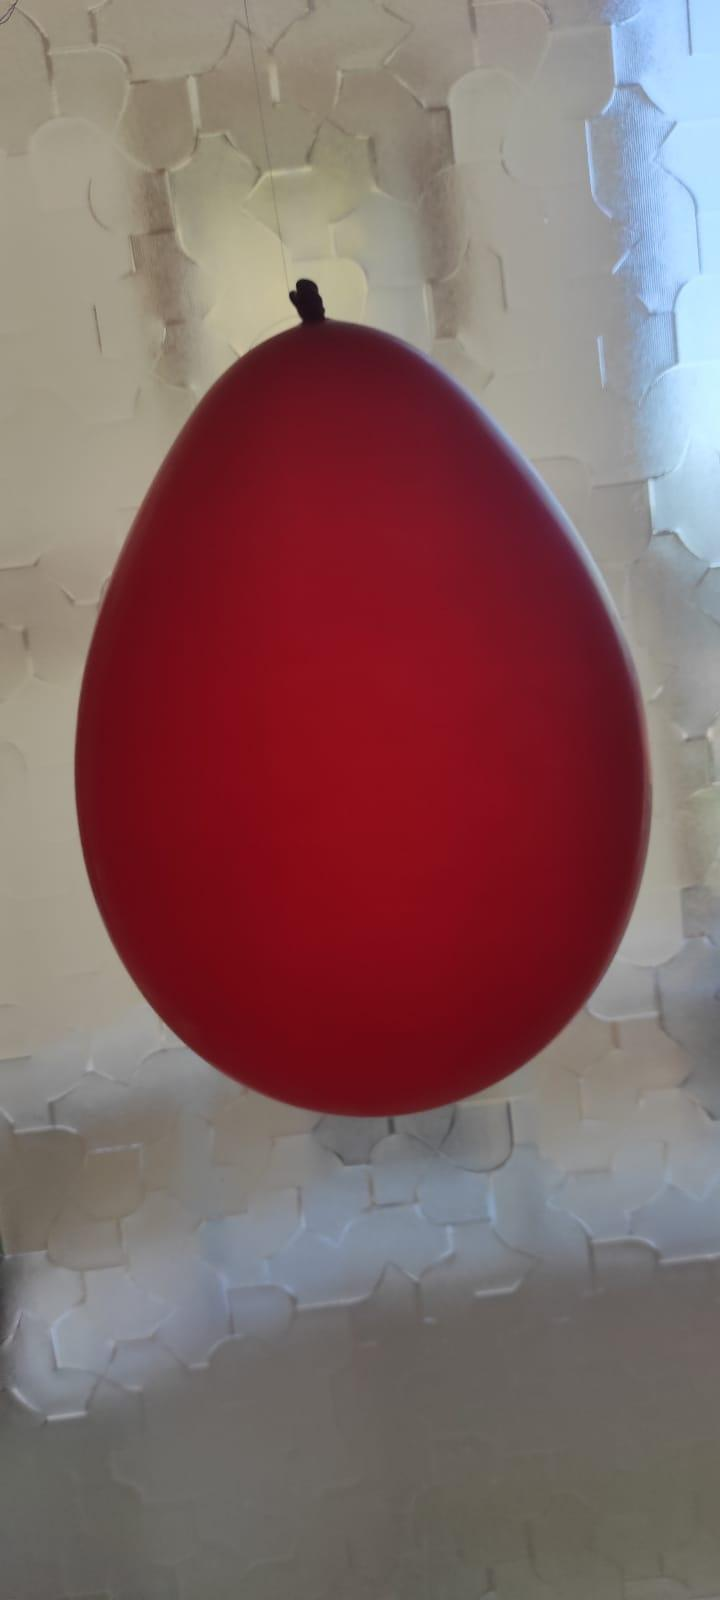red: (74, 254, 657, 1132)
